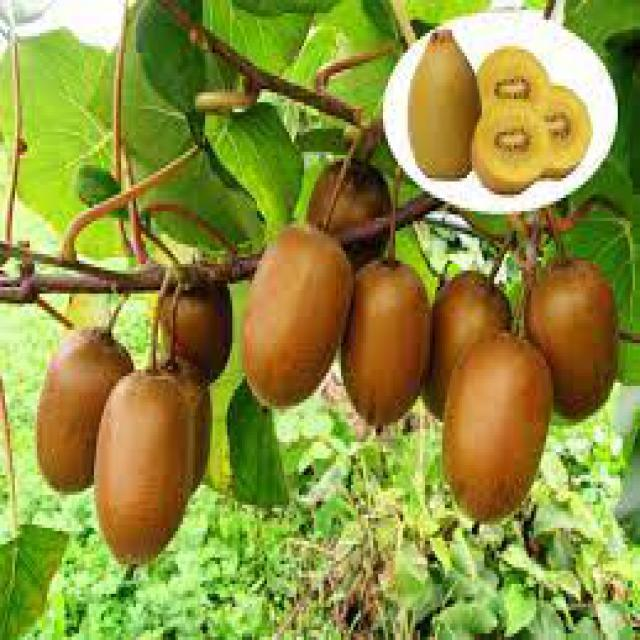kiwi: (443, 331, 550, 526), (239, 222, 350, 407), (92, 367, 194, 565), (33, 328, 132, 496), (340, 255, 427, 430), (528, 258, 617, 420), (421, 268, 510, 423), (305, 160, 392, 269), (160, 268, 231, 384)
